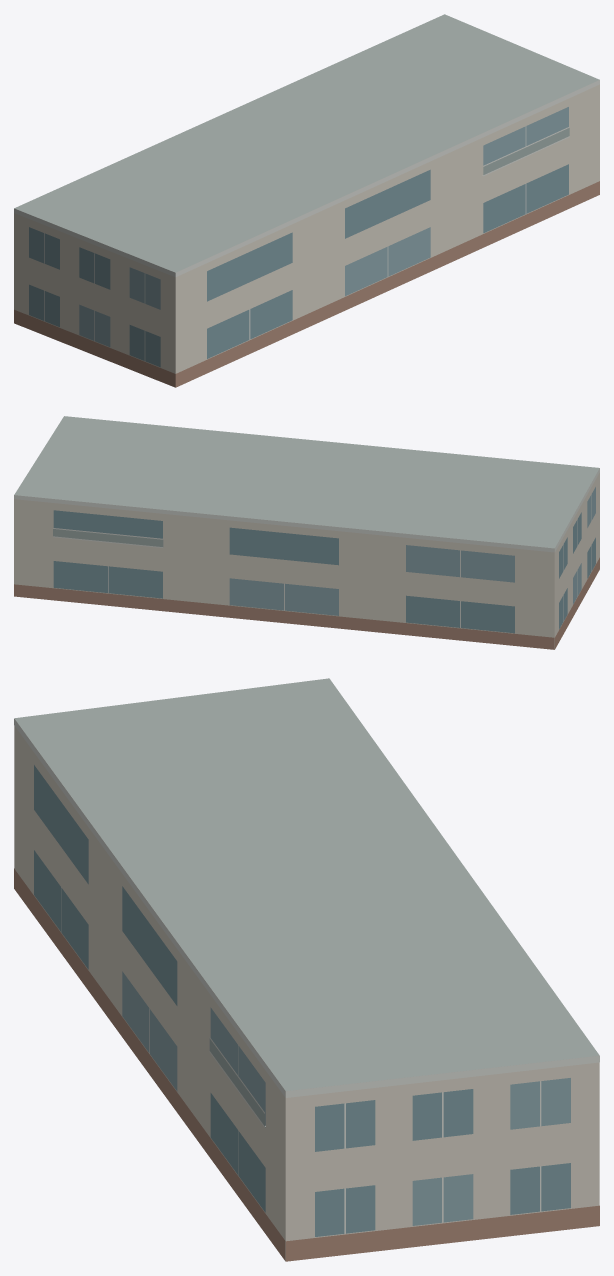
File: survey-upis-32458930.glb
3 renders of one model, top to bottom at view 1: azimuth 30°, elevation 25°; view 2: azimuth 150°, elevation 25°; view 3: azimuth 270°, elevation 25°, orthographic. The views are drawn at different scales.
Visible parts, largest first — view 1: survey-upis-32458930.tmp; view 2: survey-upis-32458930.tmp; view 3: survey-upis-32458930.tmp.
Boxes of the visible parts, x1=… form: survey-upis-32458930.tmp: x1=14, y1=14, x2=599, y2=387; survey-upis-32458930.tmp: x1=14, y1=416, x2=599, y2=649; survey-upis-32458930.tmp: x1=14, y1=678, x2=599, y2=1261.
Bounding box in the file's own units: 31.72 × 6.1 × 19.02.
